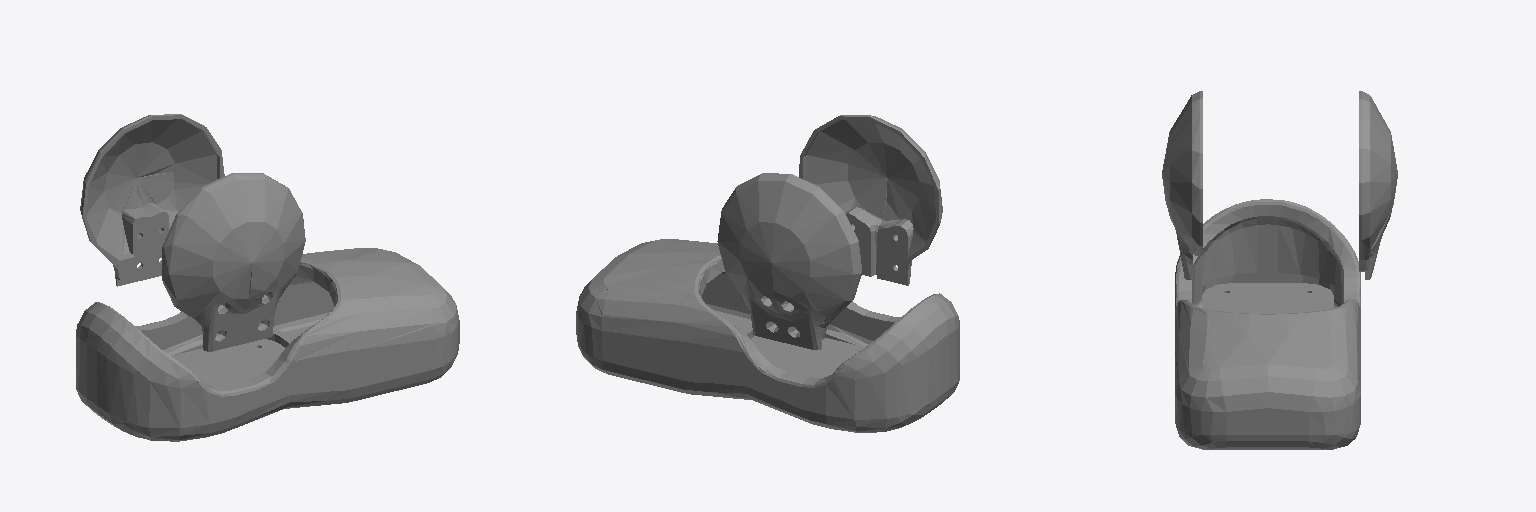
The model's file is asm0001_vrml_01_prt.obj.
The picture shows the model from 3 angles: view 1: azimuth 30°, elevation 25°; view 2: azimuth 150°, elevation 25°; view 3: azimuth 270°, elevation 25°; orthographic projection.
Visible parts, largest first — view 1: ShapeIndexedFaceSet_ShapeIndexedFaceSet.001, ShapeIndexedFaceSet.002_ShapeIndexedFaceSet, ShapeIndexedFaceSet.001_ShapeIndexedFaceSet.002; view 2: ShapeIndexedFaceSet_ShapeIndexedFaceSet.001, ShapeIndexedFaceSet.001_ShapeIndexedFaceSet.002, ShapeIndexedFaceSet.002_ShapeIndexedFaceSet; view 3: ShapeIndexedFaceSet_ShapeIndexedFaceSet.001, ShapeIndexedFaceSet.002_ShapeIndexedFaceSet, ShapeIndexedFaceSet.001_ShapeIndexedFaceSet.002.
Part boxes in pixels (x1,y1,x2,y2): ShapeIndexedFaceSet_ShapeIndexedFaceSet.001: (76,248,459,441); ShapeIndexedFaceSet.002_ShapeIndexedFaceSet: (162,173,305,351); ShapeIndexedFaceSet.001_ShapeIndexedFaceSet.002: (80,114,224,286); ShapeIndexedFaceSet_ShapeIndexedFaceSet.001: (576,239,959,432); ShapeIndexedFaceSet.001_ShapeIndexedFaceSet.002: (717,173,861,349); ShapeIndexedFaceSet.002_ShapeIndexedFaceSet: (799,115,942,285); ShapeIndexedFaceSet_ShapeIndexedFaceSet.001: (1175,199,1360,449); ShapeIndexedFaceSet.002_ShapeIndexedFaceSet: (1162,91,1202,279); ShapeIndexedFaceSet.001_ShapeIndexedFaceSet.002: (1359,91,1397,279).
Bounding box in the file's own units: 4.83 × 3.43 × 2.91.